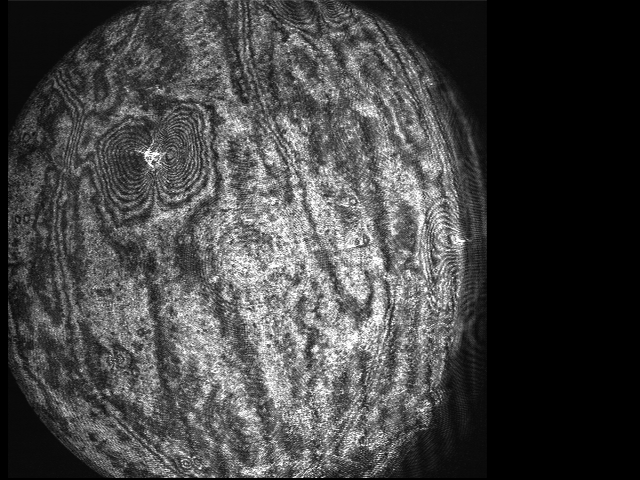plume: (102, 109, 208, 210)
